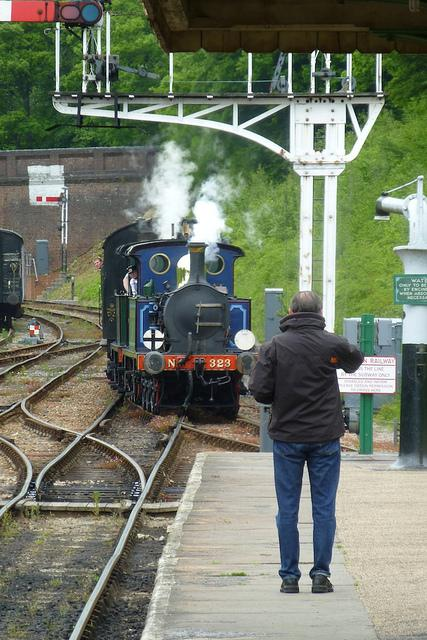Train: (101, 206, 254, 426), (0, 228, 24, 333)
